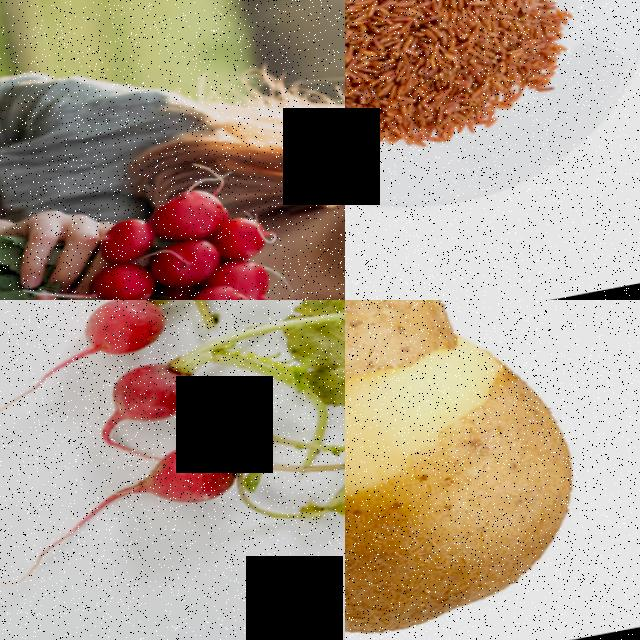potato: (345, 300, 602, 640)
radishes: (65, 182, 293, 300), (121, 418, 332, 520), (99, 336, 271, 431), (73, 300, 254, 365)
red rice: (345, 0, 584, 176)
